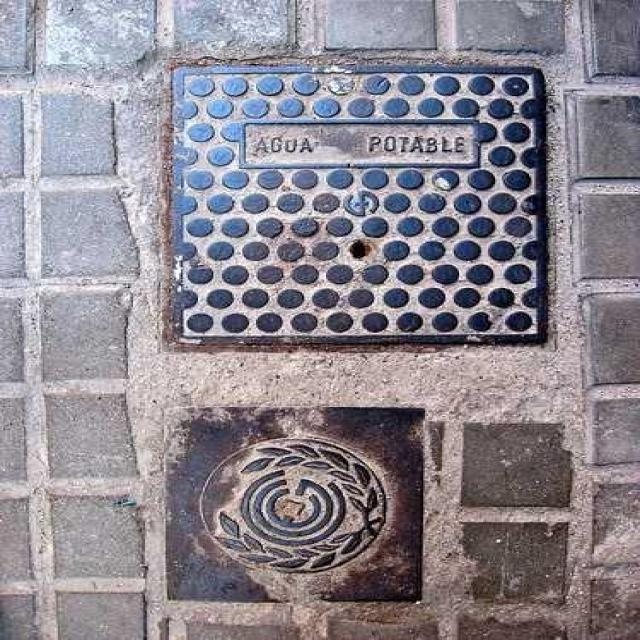manhole: (173, 65, 545, 344), (202, 438, 385, 572)
